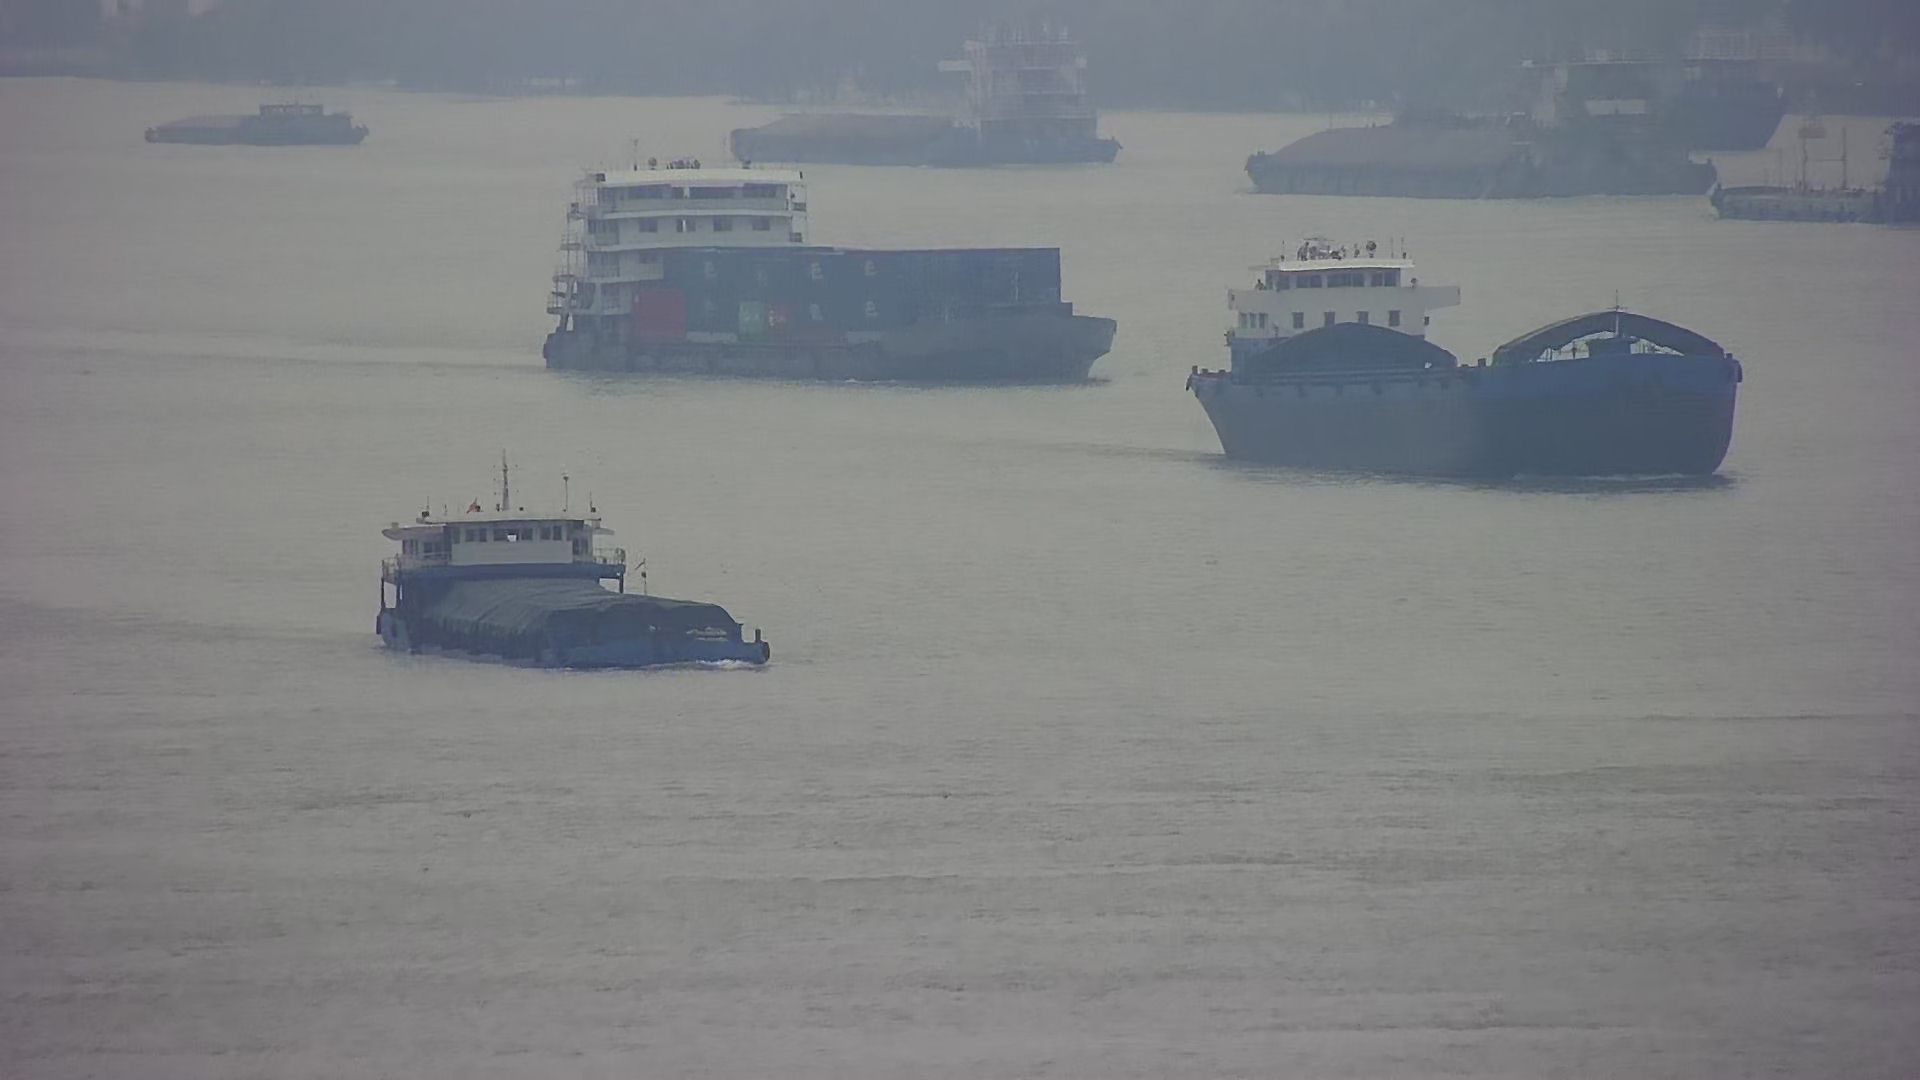ship: (1192, 228, 1741, 483), (546, 152, 1116, 378), (377, 452, 773, 673), (1232, 29, 1720, 196), (727, 36, 1127, 161), (1714, 104, 1920, 236), (148, 90, 369, 146)
